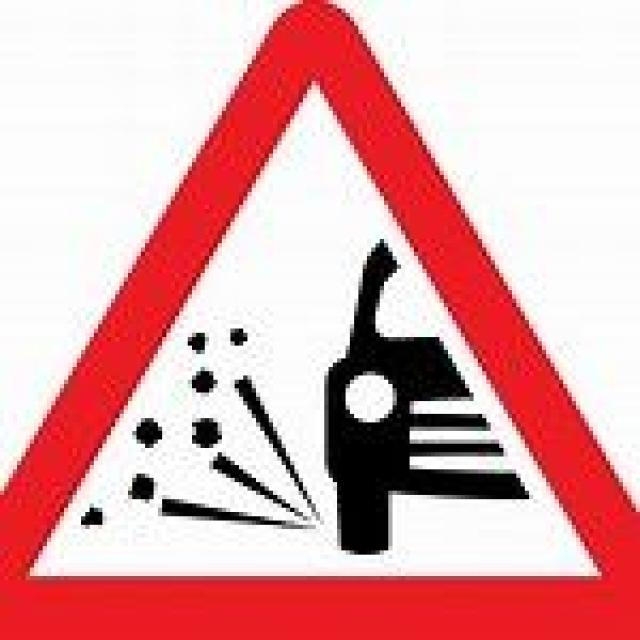road_rough: (0, 0, 636, 636)
